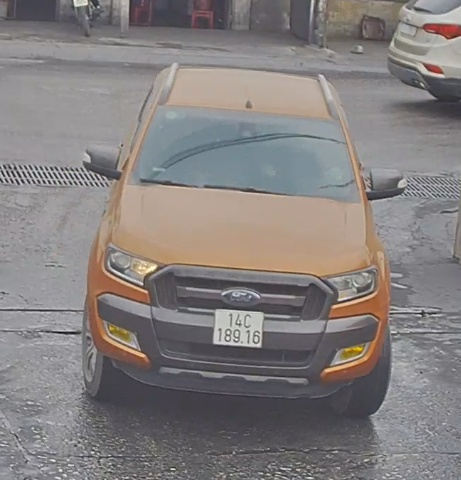vehicle plate: (210, 304, 271, 352)
